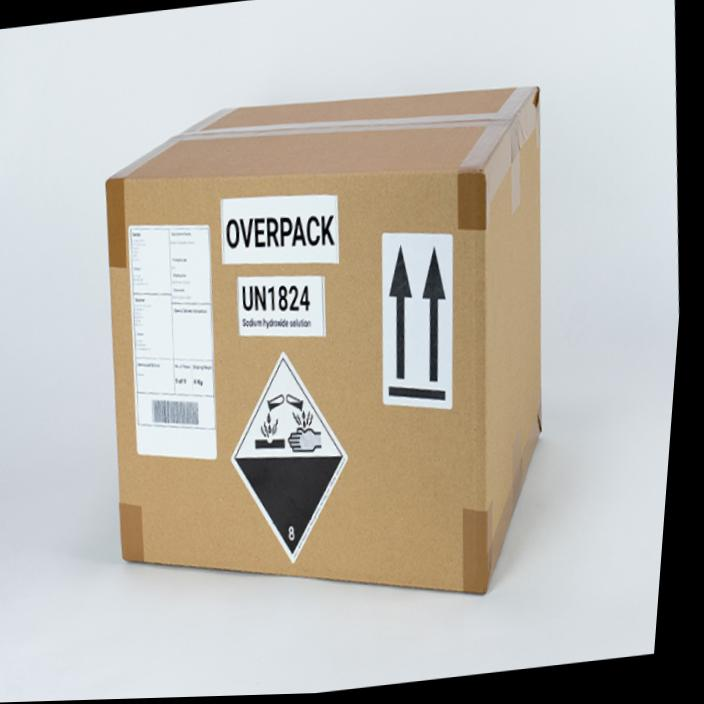elevator buttons: (233, 353, 346, 562)
